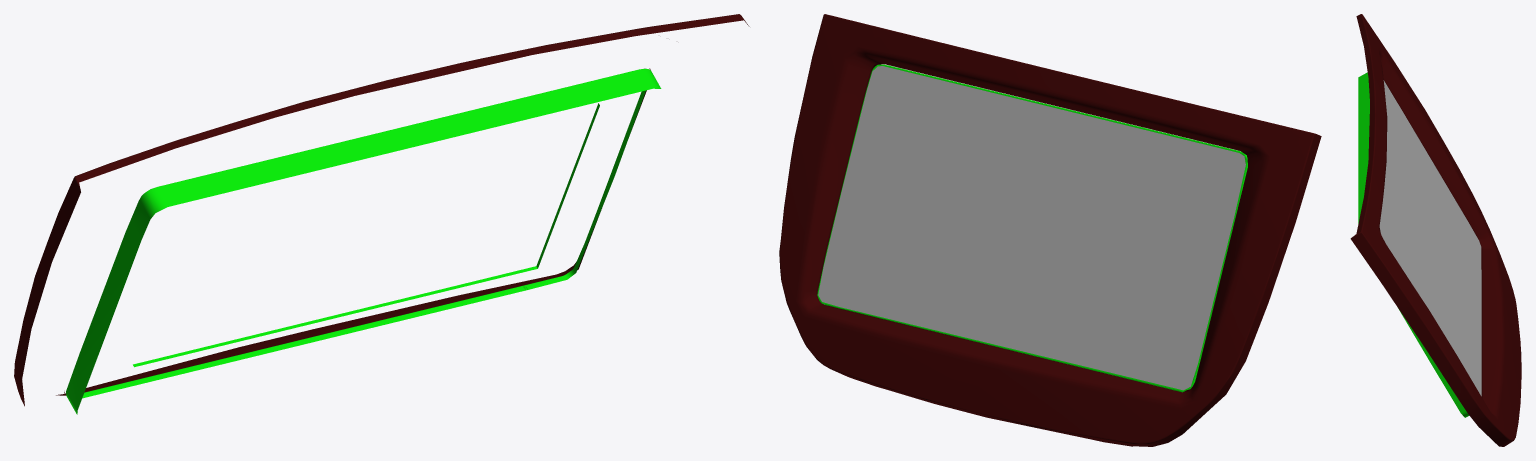
Rendered from TOYOTA_URBAN_CRUISER_PRE_HIG_IN_DASHBOARD_AUDIO_SYSTEM_MESH.glb.
3 renders of one model, left to right at view 1: azimuth 30°, elevation 25°; view 2: azimuth 150°, elevation 25°; view 3: azimuth 270°, elevation 25°, orthographic. The views are drawn at different scales.
Parts seen in each view (by area): view 1: TOYOTA_URBAN_CRUISER_PRE_HIG_IN_DASHBOARD_AUDIO_SYSTEM_MESH; view 2: TOYOTA_URBAN_CRUISER_PRE_HIG_IN_DASHBOARD_AUDIO_SYSTEM_MESH; view 3: TOYOTA_URBAN_CRUISER_PRE_HIG_IN_DASHBOARD_AUDIO_SYSTEM_MESH.
Boxes of the visible parts, box(x1,y1,x2,y2) form: TOYOTA_URBAN_CRUISER_PRE_HIG_IN_DASHBOARD_AUDIO_SYSTEM_MESH: box(14, 14, 749, 414); TOYOTA_URBAN_CRUISER_PRE_HIG_IN_DASHBOARD_AUDIO_SYSTEM_MESH: box(779, 14, 1321, 446); TOYOTA_URBAN_CRUISER_PRE_HIG_IN_DASHBOARD_AUDIO_SYSTEM_MESH: box(1350, 14, 1521, 446).
Bounding box in the file's own units: 0.2576 × 0.1454 × 0.0849.
